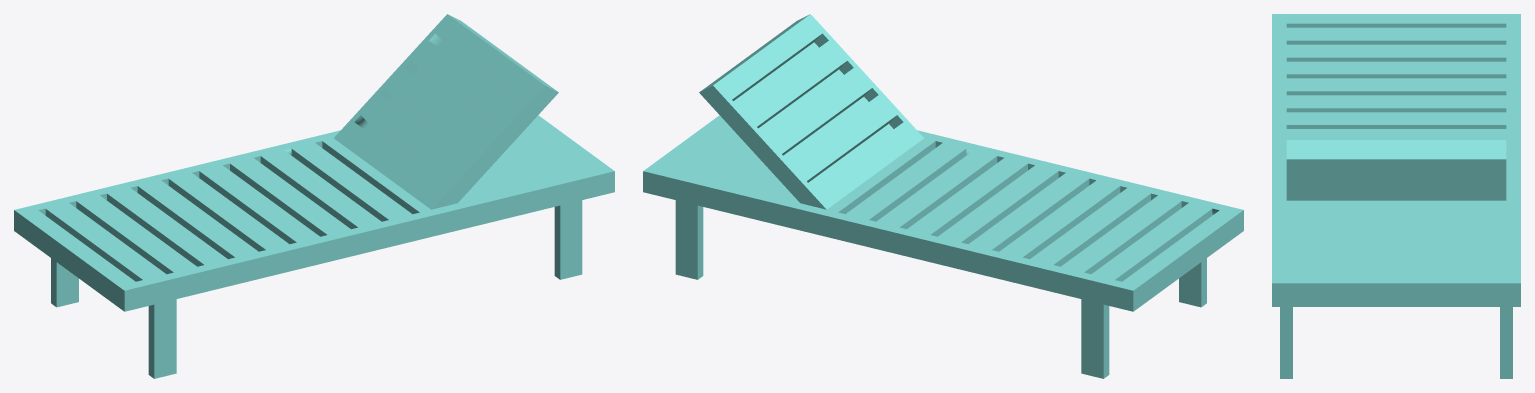
The model's file is lezaljka2.fbx.
3 views of the same model, side by side, from view 1: azimuth 30°, elevation 25°; view 2: azimuth 150°, elevation 25°; view 3: azimuth 270°, elevation 25° (orthographic). The views are drawn at different scales.
Parts seen in each view (by area): view 1: StolicaPlaza.001; view 2: StolicaPlaza.001; view 3: StolicaPlaza.001.
Part boxes in pixels (x1,y1,x2,y2): StolicaPlaza.001: [14, 14, 614, 378]; StolicaPlaza.001: [643, 14, 1243, 378]; StolicaPlaza.001: [1272, 14, 1520, 378].
Bounding box in the file's own units: 253 × 96.41 × 98.75.
